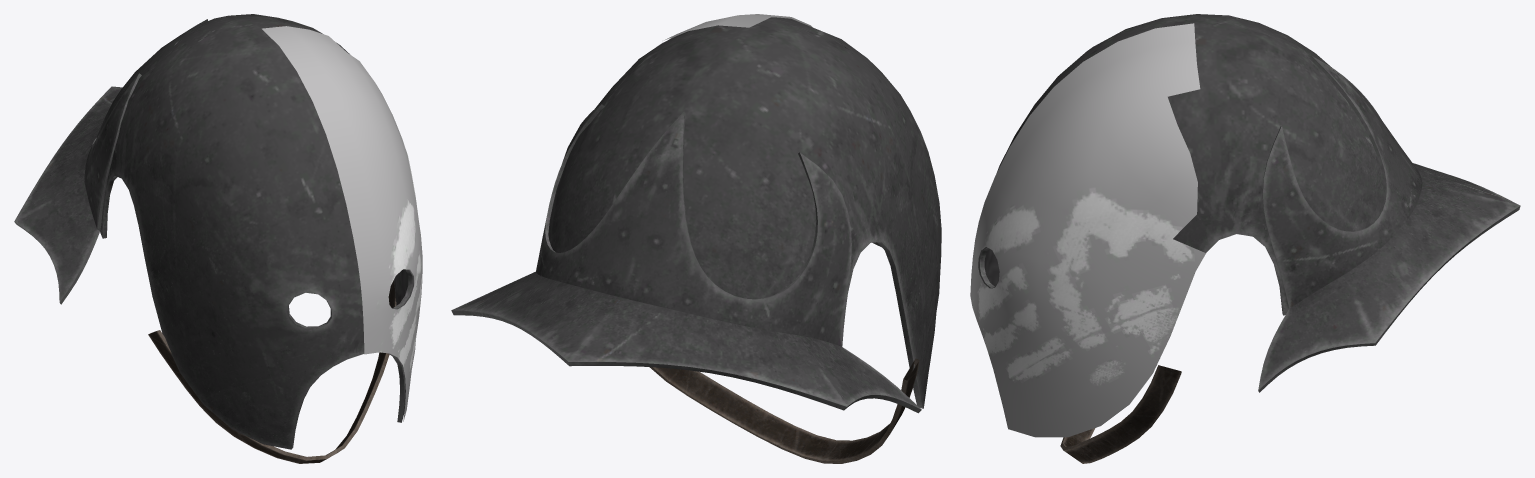
File: sk_uruk_hai_helmet_bers_a3.fbx
The picture shows the model from 3 angles, left to right: view 1: azimuth 30°, elevation 25°; view 2: azimuth 150°, elevation 25°; view 3: azimuth 270°, elevation 25°; orthographic projection. The views are drawn at different scales.
Parts seen in each view (by area): view 1: sk_uruk_hai_helmet_bers_a3.0, sk_uruk_hai_helmet_bers_a3.1, sk_uruk_hai_helmet_bers_a3.2; view 2: sk_uruk_hai_helmet_bers_a3.0, sk_uruk_hai_helmet_bers_a3.2, sk_uruk_hai_helmet_bers_a3.1; view 3: sk_uruk_hai_helmet_bers_a3.1, sk_uruk_hai_helmet_bers_a3.0, sk_uruk_hai_helmet_bers_a3.2.
Boxes of the visible parts, box(x1,y1,x2,y2) form: sk_uruk_hai_helmet_bers_a3.0: box(14, 14, 413, 449); sk_uruk_hai_helmet_bers_a3.1: box(262, 26, 422, 421); sk_uruk_hai_helmet_bers_a3.2: box(148, 280, 396, 463); sk_uruk_hai_helmet_bers_a3.0: box(451, 17, 941, 413); sk_uruk_hai_helmet_bers_a3.2: box(649, 358, 919, 463); sk_uruk_hai_helmet_bers_a3.1: box(664, 14, 812, 40); sk_uruk_hai_helmet_bers_a3.1: box(970, 23, 1205, 437); sk_uruk_hai_helmet_bers_a3.0: box(978, 14, 1520, 392); sk_uruk_hai_helmet_bers_a3.2: box(1060, 365, 1181, 463).
Size of the model in its own units: 0.2672 by 0.339 by 0.294.
3 materials, 3 textured.
